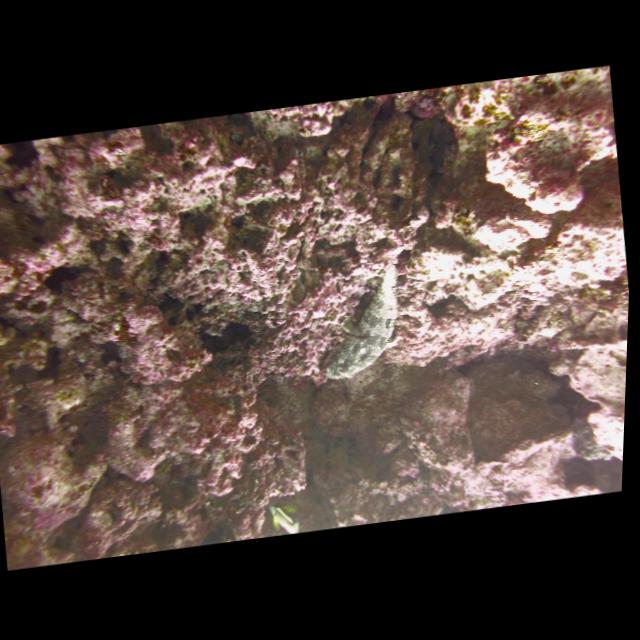Groupers: (310, 253, 417, 385)
